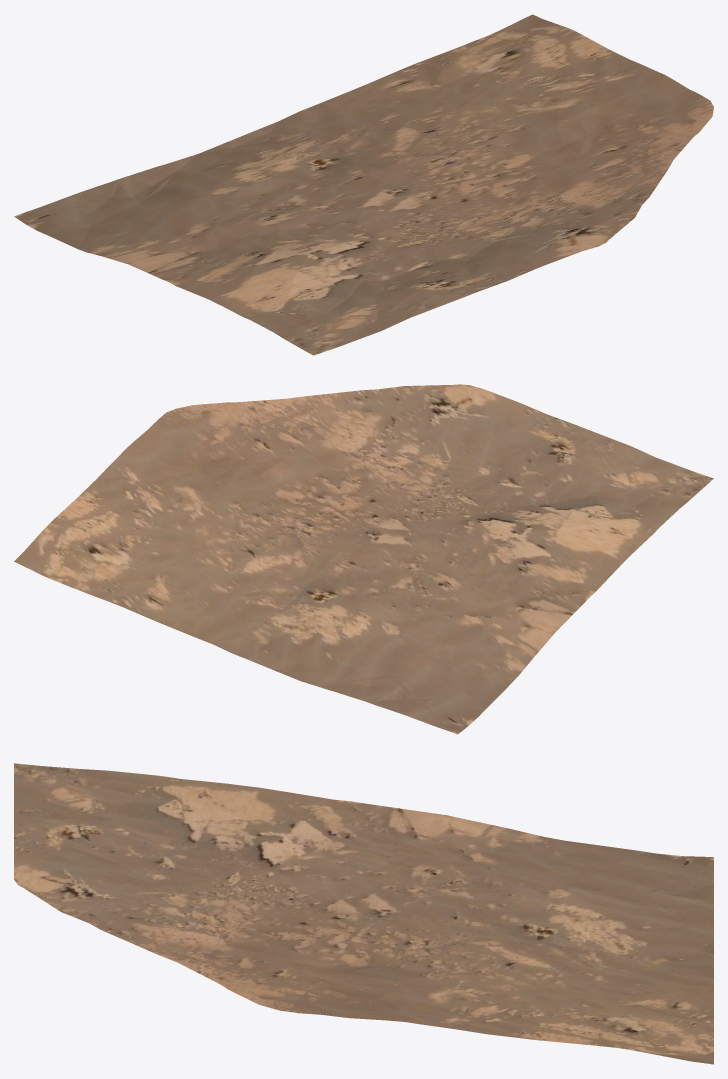
3 renders of one model, top to bottom at view 1: azimuth 30°, elevation 25°; view 2: azimuth 150°, elevation 25°; view 3: azimuth 270°, elevation 25°, orthographic. The views are drawn at different scales.
Bounding box in the file's own units: 1.04 × 0.2302 × 1.04.
Materials: 2 (2 with a texture image).
